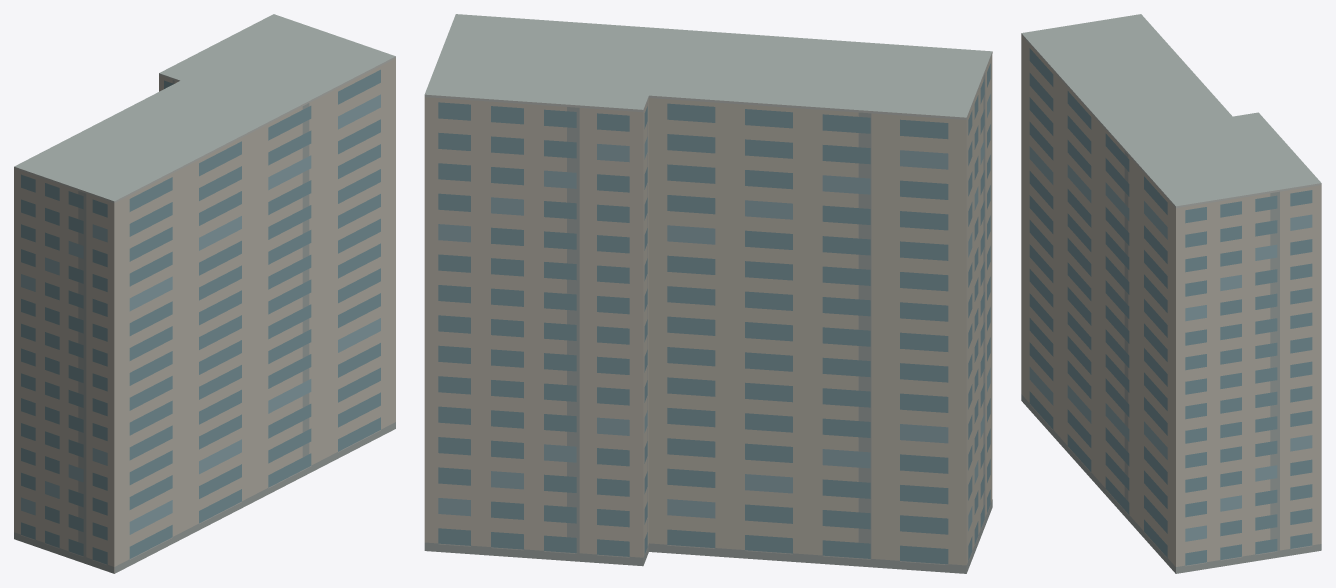
Rendered from residential-0d8c868e-3e0e-4183-abcf-4f111c58d8a3.glb.
3 views of the same model, side by side, from view 1: azimuth 30°, elevation 25°; view 2: azimuth 150°, elevation 25°; view 3: azimuth 270°, elevation 25° (orthographic). The views are drawn at different scales.
Parts seen in each view (by area): view 1: residential-0d8c868e-3e0e-4183-abcf-4f111c58d8a3.tmp; view 2: residential-0d8c868e-3e0e-4183-abcf-4f111c58d8a3.tmp; view 3: residential-0d8c868e-3e0e-4183-abcf-4f111c58d8a3.tmp.
Part boxes in pixels (box(x1,y1,x2,y2)): residential-0d8c868e-3e0e-4183-abcf-4f111c58d8a3.tmp: box(14, 14, 395, 573); residential-0d8c868e-3e0e-4183-abcf-4f111c58d8a3.tmp: box(424, 14, 992, 573); residential-0d8c868e-3e0e-4183-abcf-4f111c58d8a3.tmp: box(1021, 14, 1321, 573).
Bounding box in the file's own units: 52.75 × 47 × 34.81.
